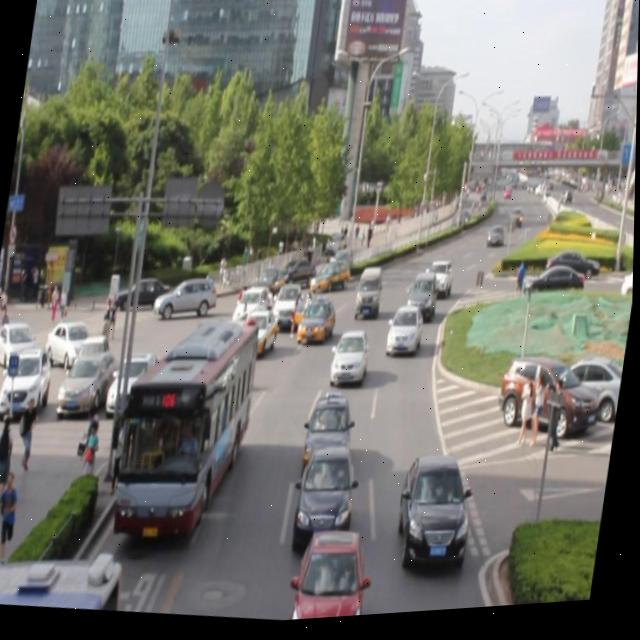car: (394, 452, 481, 581), (292, 527, 372, 624), (293, 447, 362, 553), (303, 397, 357, 482), (237, 306, 286, 359), (194, 315, 237, 375), (330, 331, 372, 392), (298, 290, 342, 347), (268, 279, 308, 336), (385, 308, 425, 361), (313, 252, 357, 297), (234, 286, 270, 336), (405, 276, 440, 326), (424, 261, 456, 304)
truck: (352, 268, 386, 328)
van: (112, 311, 261, 542), (0, 545, 126, 619)
